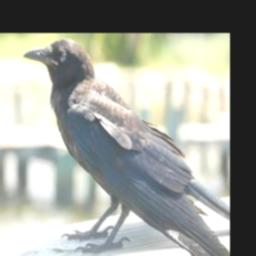Crow: (21, 38, 227, 256)
